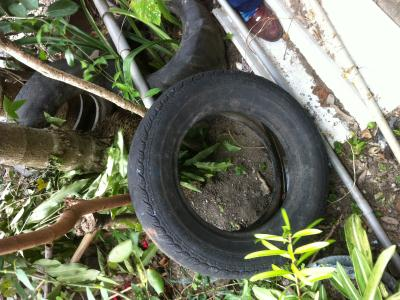tire: (125, 67, 334, 288)
